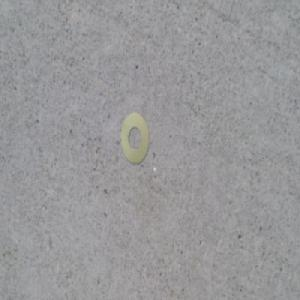Washer: (119, 110, 149, 167)
